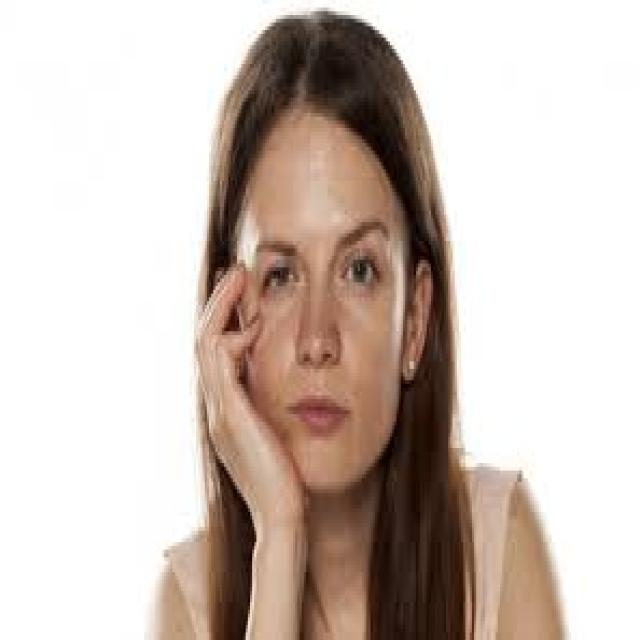Oily-Skin: (352, 306, 398, 401), (274, 157, 352, 208)
